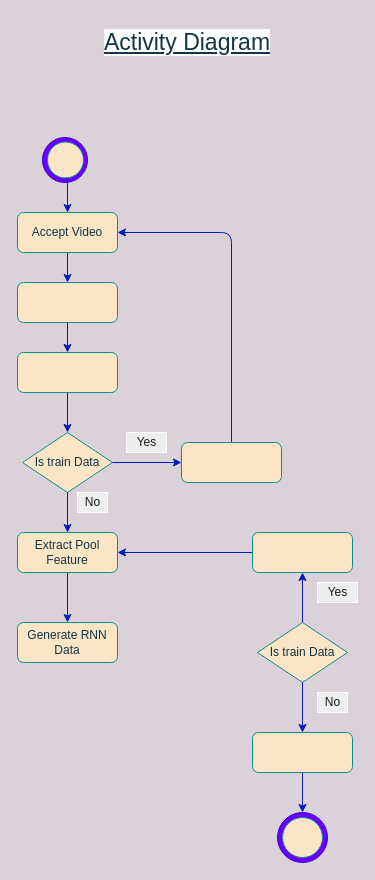
The diagram is 375 pixels wide and 880 high, and some of its shapes have lost their labels. Here are the shapes that lost their labels. From the top down, the box of each, then its label:
(16, 282, 118, 322): Split Into frames
(16, 352, 118, 392): Pass images to CNN
(180, 442, 282, 482): Train CNN
(252, 532, 352, 572): Train RNN
(252, 732, 352, 772): Generate Prediction
